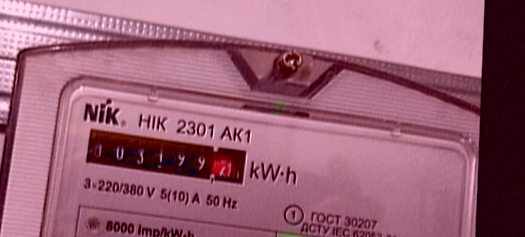0: (91, 139, 104, 158), (113, 141, 125, 160)
1: (155, 144, 165, 163)
3: (134, 146, 144, 165)
6: (217, 163, 227, 179)
9: (195, 153, 206, 171), (175, 148, 185, 167)
screen: (78, 124, 254, 191)
